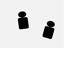human: (15, 10, 31, 30), (40, 19, 56, 39)
